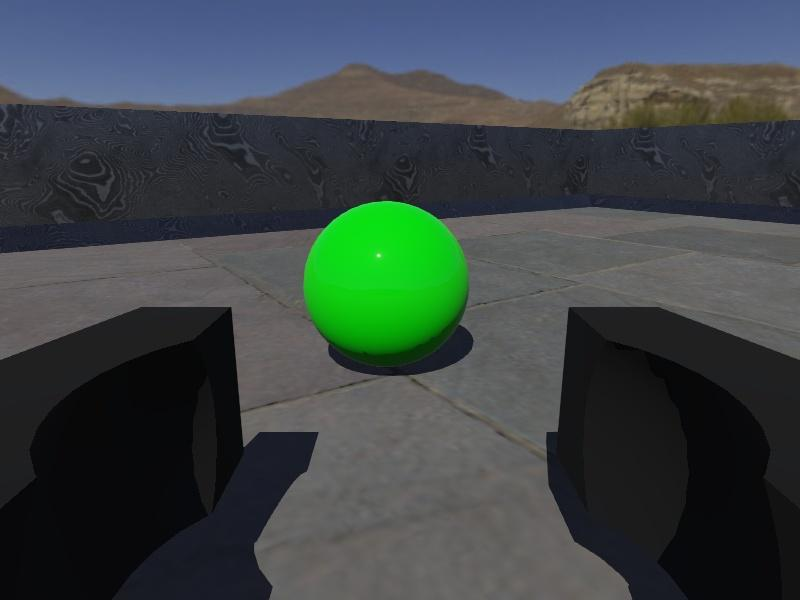green ball: (302, 200, 470, 368)
